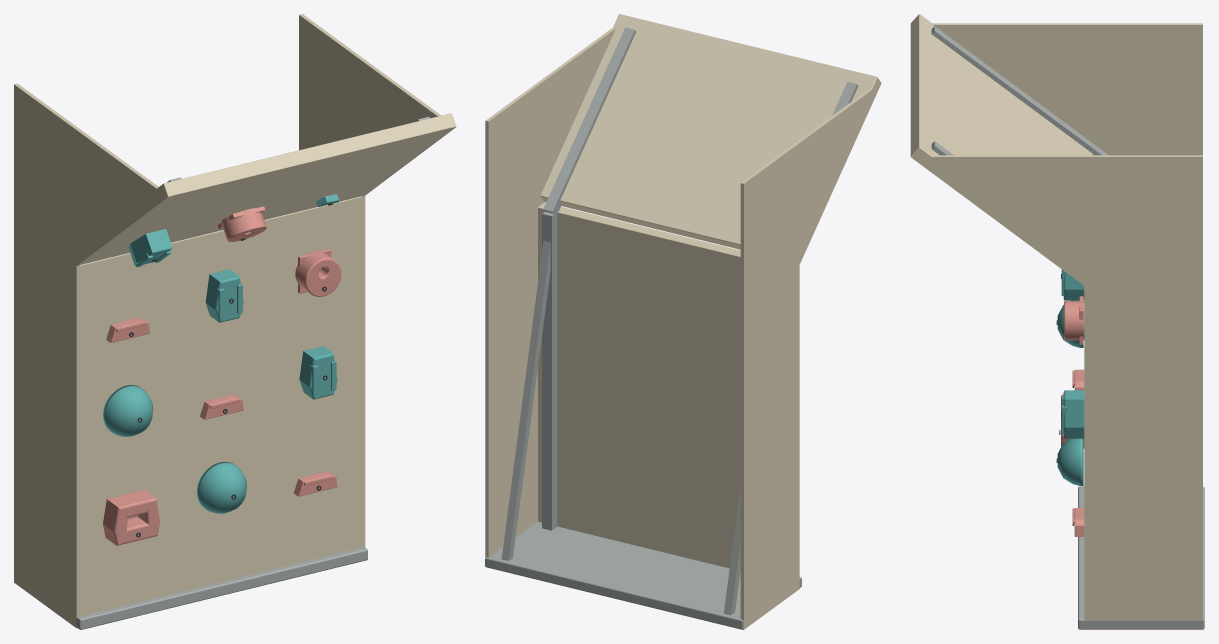
Rendered from indoor-climbing-and-bouldering-gym-indoor-climbing-and-d7303a5c__31517.glb.
The picture shows the model from 3 angles, left to right: view 1: azimuth 30°, elevation 25°; view 2: azimuth 150°, elevation 25°; view 3: azimuth 270°, elevation 25°; orthographic projection. The views are drawn at different scales.
Visible parts, largest first — view 1: indoor-climbing-and-bouldering-gym-roof-transition-panel; view 2: indoor-climbing-and-bouldering-gym-roof-transition-panel; view 3: indoor-climbing-and-bouldering-gym-roof-transition-panel.
Part boxes in pixels (left/top/right/bottom): indoor-climbing-and-bouldering-gym-roof-transition-panel: left=14, top=14, right=456, bottom=629; indoor-climbing-and-bouldering-gym-roof-transition-panel: left=485, top=14, right=881, bottom=629; indoor-climbing-and-bouldering-gym-roof-transition-panel: left=910, top=14, right=1204, bottom=629.
Size of the model in its own units: 2 by 3.37 by 1.86.
